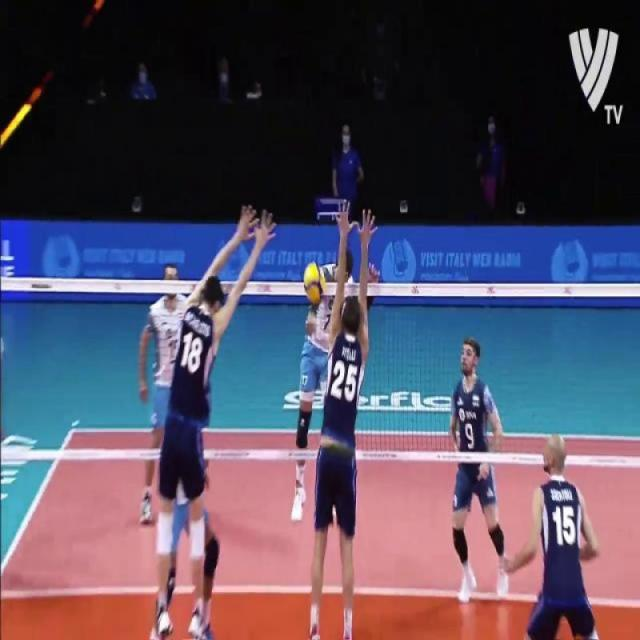volleyball: (305, 262, 325, 304)
